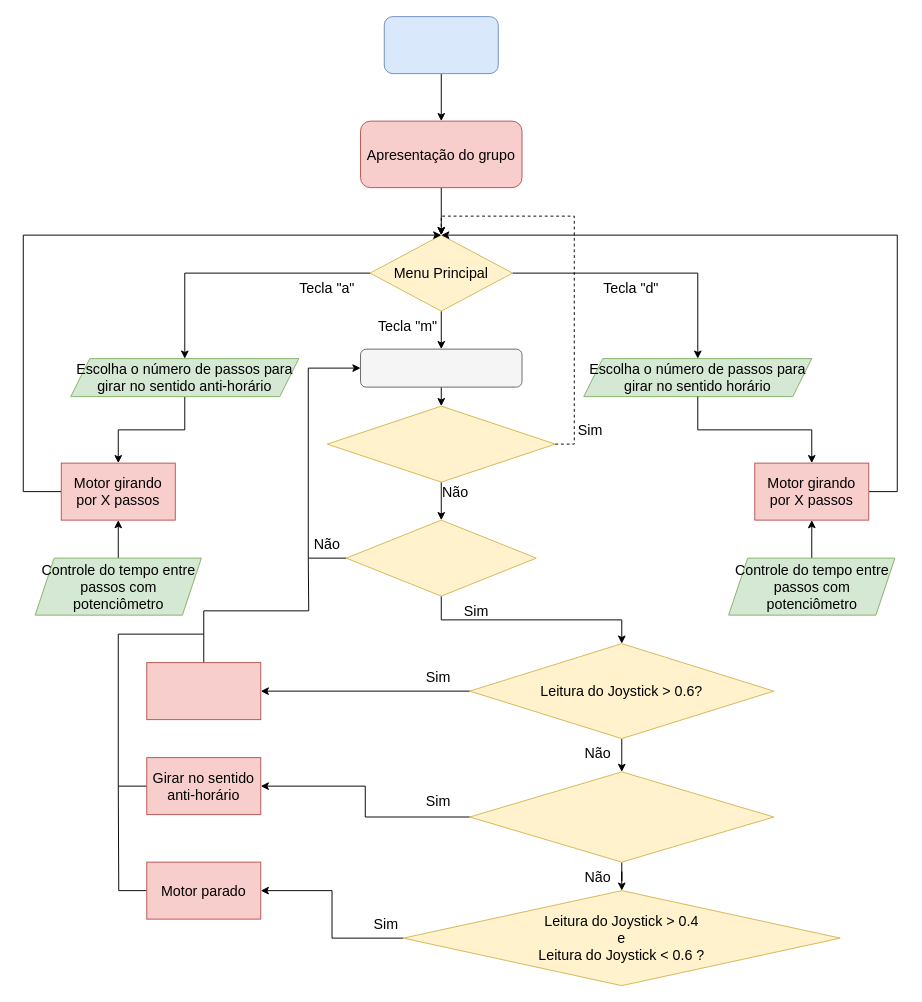
This 922x1002 diagram has some shape labels left out. The shapes that lost their labels are listed below. From the top down, each one's centre as x and y in pixels, then its label:
the point at 440,45: Start
the point at 441,367: Rotina de controle MANUAL
the point at 440,443: Botão menu foi pressionado?
the point at 440,557: Enable está ativado?
the point at 203,691: Girar no sentido horário
the point at 621,816: Leitura do Joystick < 0.4?
